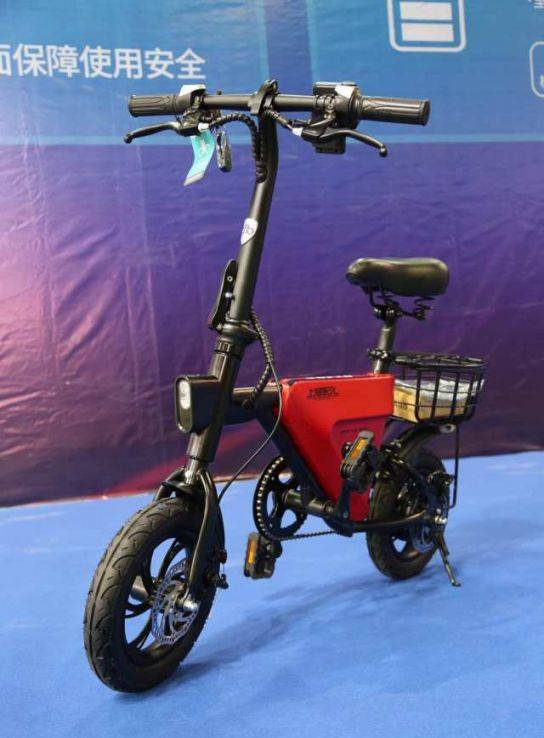电动车: (48, 70, 524, 715)
